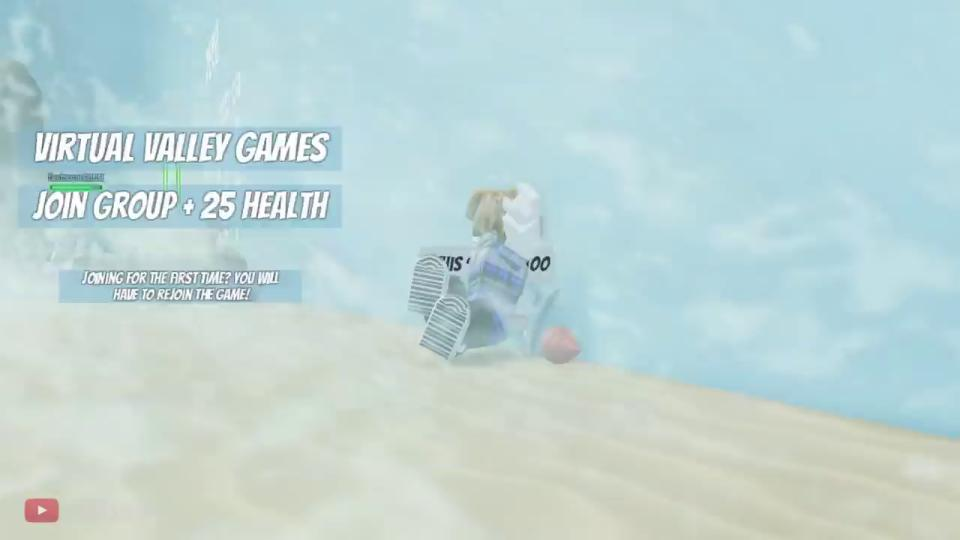Character: (409, 184, 558, 360)
